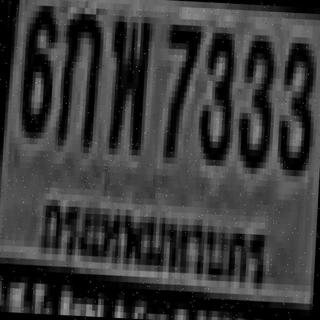A01: (55, 7, 102, 147)
A30: (106, 9, 151, 150)
N03: (234, 28, 276, 169), (196, 20, 234, 160), (276, 36, 314, 170)
N06: (18, 0, 56, 133)
N07: (160, 18, 199, 158)
P04: (33, 188, 278, 299)
